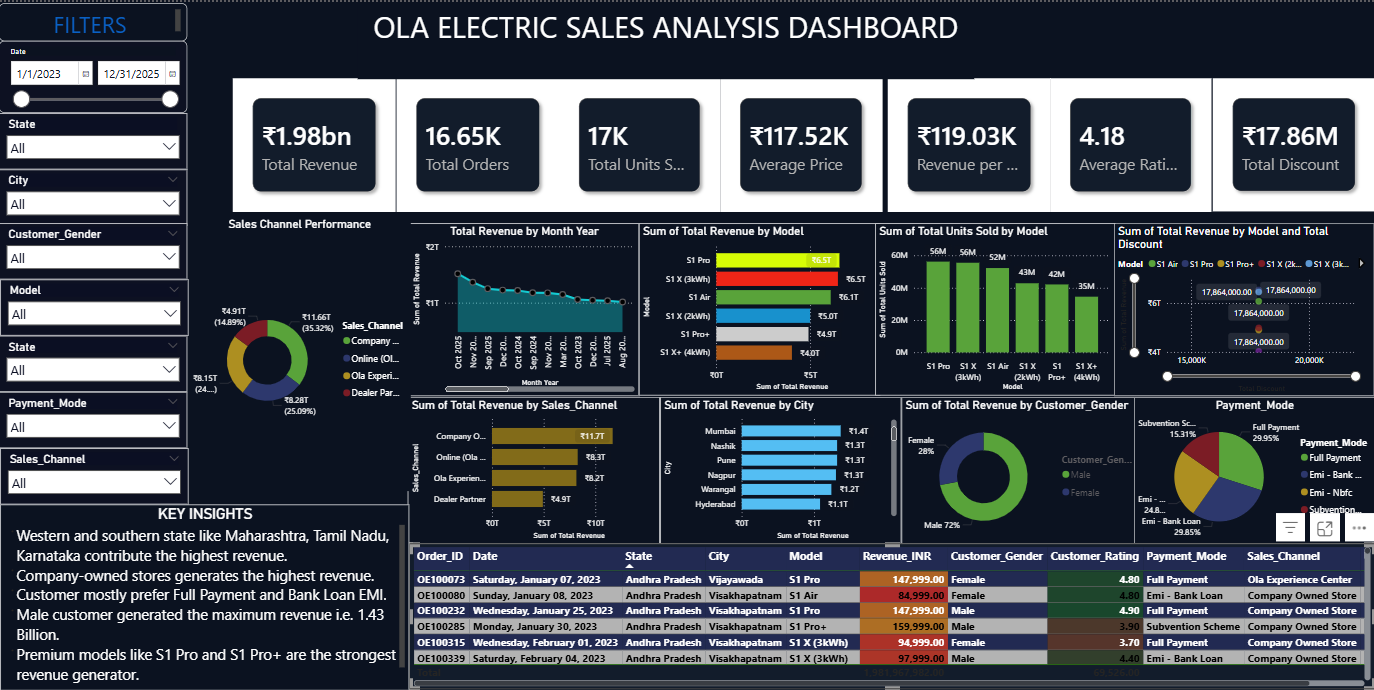

The page's visual inventory and layout, read from the dashboard file:
{"tool":"powerbi","page":{"name":"Page 1","canvas":[2000,1000],"ordinal":0},"visuals":[{"type":"cardVisual","fields":{"Data":["Max(ola_electric_sales.Revenue per Order)"]},"box":[1291.4,111.4,237.1,194.3],"z":0},{"type":"cardVisual","fields":{"Data":["Max(ola_electric_sales.Total Units Sold)"]},"box":[814.3,111.4,234.3,194.3],"z":1000},{"type":"cardVisual","fields":{"Data":["Avg(ola_electric_sales.Average Rating)"]},"box":[1528.6,111.4,234.3,194.3],"z":2000},{"type":"cardVisual","fields":{"Data":["Avg(ola_electric_sales.Average Price)"]},"box":[1048.6,111.4,235.7,194.3],"z":3000},{"type":"cardVisual","fields":{"Data":["Max(ola_electric_sales.Total Discount)"]},"box":[1763.3,111.7,236.7,193.3],"z":4000},{"type":"areaChart","title":" Total Revenue by Month Year","fields":{"Category":["Date Table.Month Year"],"Y":["Sum(ola_electric_sales.Total Revenue)"]},"box":[595.7,321.4,334.3,251.4],"z":6000},{"type":"clusteredBarChart","fields":{"Category":["ola_electric_sales.Model"],"Y":["Sum(ola_electric_sales.Total Revenue)"]},"box":[930,321.4,350,250],"z":7000},{"type":"clusteredColumnChart","fields":{"Category":["ola_electric_sales.Model"],"Y":["Sum(ola_electric_sales.Total Units Sold)"]},"box":[1272.9,321.4,348.6,250],"z":8000},{"type":"donutChart","fields":{"Category":["ola_electric_sales.Customer_Gender"],"Y":["Sum(ola_electric_sales.Total Revenue)"]},"box":[1311.7,573.3,350,213.3],"z":9000},{"type":"barChart","fields":{"Category":["ola_electric_sales.Sales_Channel"],"Y":["Sum(ola_electric_sales.Total Revenue)"]},"box":[595,573.3,366.7,213.3],"z":10000},{"type":"pieChart","title":" Payment_Mode","fields":{"Category":["ola_electric_sales.Payment_Mode"],"Y":["Sum(ola_electric_sales.Total Revenue)"]},"box":[1650,573.3,350,213.3],"z":11000},{"type":"clusteredBarChart","fields":{"Category":["ola_electric_sales.City"],"Y":["Sum(ola_electric_sales.Total Revenue)"]},"box":[961.7,573.3,350,213.3],"z":12000},{"type":"scatterChart","fields":{"Y":["Sum(ola_electric_sales.Total Revenue)"],"X":["ola_electric_sales.Total Discount"],"Series":["ola_electric_sales.Model"]},"box":[1621.4,321.4,378.6,251.4],"z":13000},{"type":"tableEx","fields":{"Values":["ola_electric_sales.Order_ID","ola_electric_sales.Date","ola_electric_sales.State","ola_electric_sales.City","ola_electric_sales.Model","Sum(ola_electric_sales.Revenue_INR)","ola_electric_sales.Customer_Gender","Sum(ola_electric_sales.Customer_Rating)","ola_electric_sales.Payment_Mode","ola_electric_sales.Sales_Channel","Sum(ola_electric_sales.Units_Sold)"]},"box":[596,786,1404,214],"z":14000},{"type":"donutChart","title":" Sales Channel Performance","fields":{"Category":["ola_electric_sales.Sales_Channel"],"Y":["Sum(ola_electric_sales.Total Revenue)"]},"box":[276,312,322,398],"z":15000},{"type":"slicer","fields":{"Values":["ola_electric_sales.State"]},"box":[0,161.7,273.3,81.7],"z":16000},{"type":"slicer","fields":{"Values":["ola_electric_sales.City"]},"box":[0,243.3,273.3,81.7],"z":17000},{"type":"slicer","fields":{"Values":["ola_electric_sales.Customer_Gender"]},"box":[0,321.7,273.3,81.7],"z":18000},{"type":"slicer","fields":{"Values":["ola_electric_sales.Model"]},"box":[1.7,403.3,273.3,81.7],"z":19000},{"type":"slicer","fields":{"Values":["ola_electric_sales.State"]},"box":[0,485,273.3,81.7],"z":20000},{"type":"slicer","fields":{"Values":["ola_electric_sales.Payment_Mode"]},"box":[0,566.7,273.3,81.7],"z":21000},{"type":"slicer","fields":{"Values":["ola_electric_sales.Sales_Channel"]},"box":[1.7,648.3,273.3,81.7],"z":22000},{"type":"slicer","fields":{"Values":["ola_electric_sales.Date"]},"box":[0,56.7,273.3,105],"z":23000},{"type":"cardVisual","fields":{"Data":["Avg(ola_electric_sales.Total Orders)"]},"box":[577.1,111.4,237.1,194.3],"z":24001},{"type":"cardVisual","title":"TOTAL REVENUE","fields":{"Data":["Max(ola_electric_sales.Total Revenue)"]},"box":[340,111.4,237.1,194.3],"z":24002},{"type":"textbox","box":[521,1.4,895.7,110],"z":24003},{"type":"textbox","box":[0,1,273.3,55],"z":24004},{"type":"textbox","title":"KEY INSIGHTS","box":[2,730,594,270],"z":24005}]}

Visuals, with their boxes in screenshot pixels (x1, y1, x2, y2), scaled from the page's 2000x1000 canvas onto the 1374x690 screenshot:
cardVisual - Max(ola_electric_sales.Revenue per Order): pyautogui.locateOnScreen(887, 77, 1050, 211)
cardVisual - Max(ola_electric_sales.Total Units Sold): pyautogui.locateOnScreen(559, 77, 720, 211)
cardVisual - Avg(ola_electric_sales.Average Rating): pyautogui.locateOnScreen(1050, 77, 1211, 211)
cardVisual - Avg(ola_electric_sales.Average Price): pyautogui.locateOnScreen(720, 77, 882, 211)
cardVisual - Max(ola_electric_sales.Total Discount): pyautogui.locateOnScreen(1211, 77, 1373, 210)
" Total Revenue by Month Year" areaChart: pyautogui.locateOnScreen(409, 222, 639, 395)
clusteredBarChart - ola_electric_sales.Model x Sum(ola_electric_sales.Total Revenue): pyautogui.locateOnScreen(639, 222, 879, 394)
clusteredColumnChart - ola_electric_sales.Model x Sum(ola_electric_sales.Total Units Sold): pyautogui.locateOnScreen(874, 222, 1114, 394)
donutChart - ola_electric_sales.Customer_Gender x Sum(ola_electric_sales.Total Revenue): pyautogui.locateOnScreen(901, 396, 1142, 543)
barChart - ola_electric_sales.Sales_Channel x Sum(ola_electric_sales.Total Revenue): pyautogui.locateOnScreen(409, 396, 661, 543)
" Payment_Mode" pieChart: pyautogui.locateOnScreen(1134, 396, 1373, 543)
clusteredBarChart - ola_electric_sales.City x Sum(ola_electric_sales.Total Revenue): pyautogui.locateOnScreen(661, 396, 901, 543)
scatterChart - Sum(ola_electric_sales.Total Revenue) x ola_electric_sales.Total Discount: pyautogui.locateOnScreen(1114, 222, 1373, 395)
tableEx - ola_electric_sales.Order_ID x ola_electric_sales.Date: pyautogui.locateOnScreen(409, 542, 1373, 689)
" Sales Channel Performance" donutChart: pyautogui.locateOnScreen(190, 215, 411, 490)
slicer - ola_electric_sales.State: pyautogui.locateOnScreen(0, 112, 188, 168)
slicer - ola_electric_sales.City: pyautogui.locateOnScreen(0, 168, 188, 224)
slicer - ola_electric_sales.Customer_Gender: pyautogui.locateOnScreen(0, 222, 188, 278)
slicer - ola_electric_sales.Model: pyautogui.locateOnScreen(1, 278, 189, 335)
slicer - ola_electric_sales.State: pyautogui.locateOnScreen(0, 335, 188, 391)
slicer - ola_electric_sales.Payment_Mode: pyautogui.locateOnScreen(0, 391, 188, 447)
slicer - ola_electric_sales.Sales_Channel: pyautogui.locateOnScreen(1, 447, 189, 504)
slicer - ola_electric_sales.Date: pyautogui.locateOnScreen(0, 39, 188, 112)
cardVisual - Avg(ola_electric_sales.Total Orders): pyautogui.locateOnScreen(396, 77, 559, 211)
"TOTAL REVENUE" cardVisual: pyautogui.locateOnScreen(234, 77, 396, 211)
textbox: pyautogui.locateOnScreen(358, 1, 973, 77)
textbox: pyautogui.locateOnScreen(0, 1, 188, 39)
"KEY INSIGHTS" textbox: pyautogui.locateOnScreen(1, 504, 409, 689)
